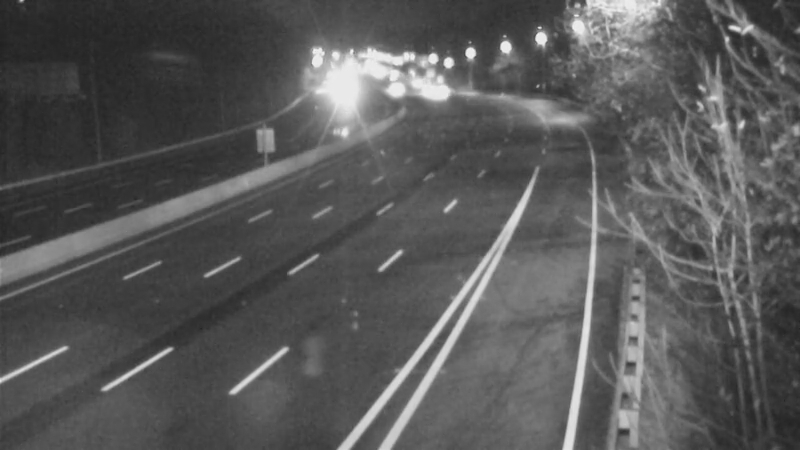vehicle: (395, 58, 445, 108), (373, 63, 423, 113), (412, 68, 462, 118), (314, 72, 364, 122)
